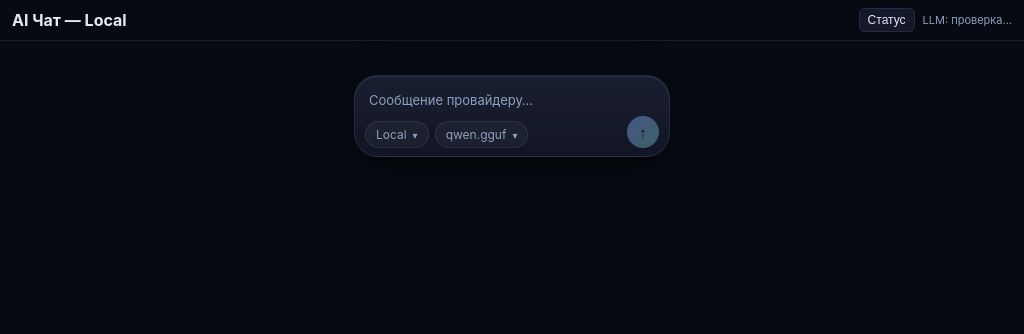
Test: ai_chat_stop_invokes_backend_cancel › cancels the in-flight request and drops its late answer, then allows a new send
This screenshot has width=1024, height=334.
Type "one" into the text box with placeholder "Сообщение провайдеру…" at point(512, 98), box [365,86,659,110]
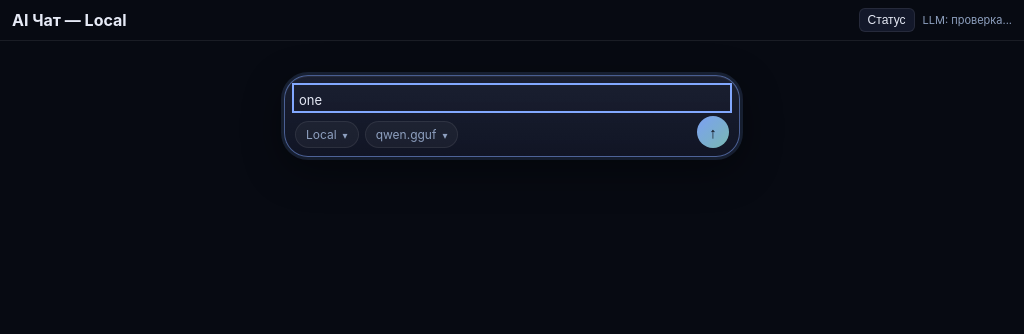
Click the button named "Отправить" at point(713, 132), box [697,116,729,148]
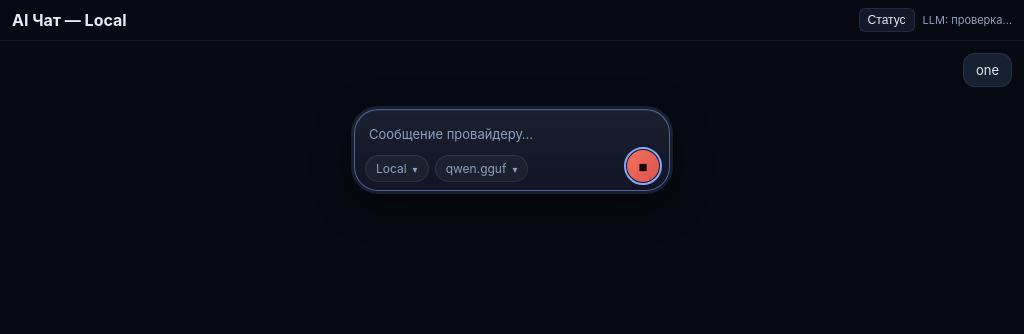
Expected: the button named "Стоп" is shown
Click the button named "Стоп" at point(643, 166), box [627,150,659,182]
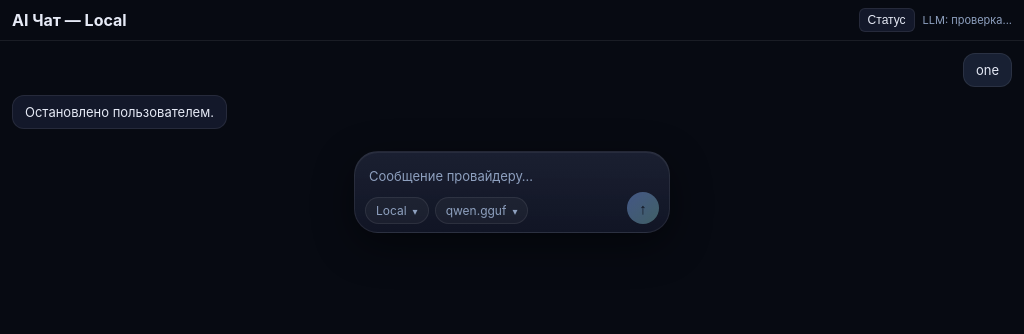
Expected: the text "Остановлено пользователем." is shown, [25,104,214,120]
A subsequent send still works (the counter invalidated the aborted one).
Type "two" into the text box with placeholder "Сообщение провайдеру…" at point(512, 174), box [365,162,659,186]
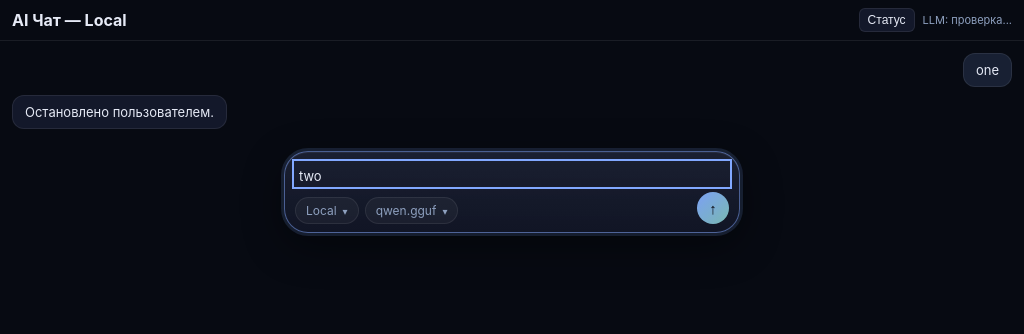
Click the button named "Отправить" at point(713, 208), box [697,192,729,224]
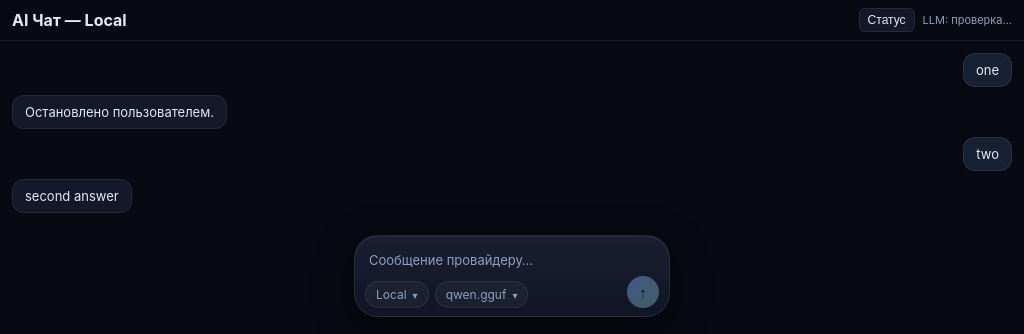
Expected: the text "second answer" is shown, [25,188,119,204]
